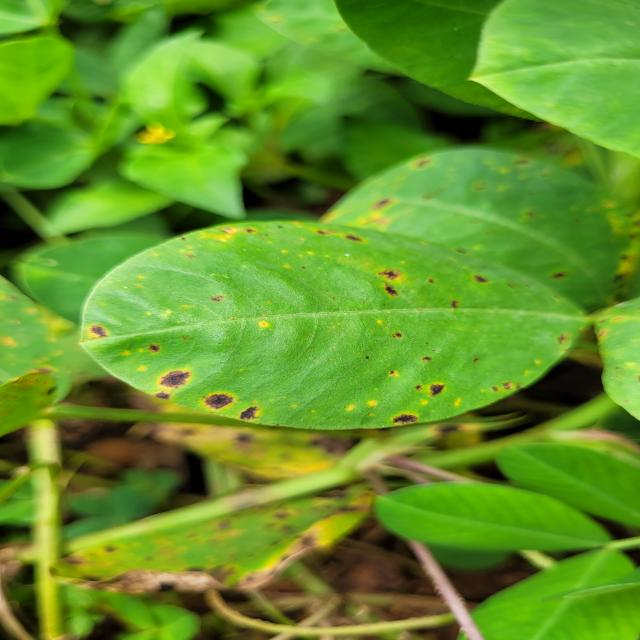Ground nut_healthy: (362, 476, 621, 556)
Ground nut_tikka leaf spot: (71, 218, 587, 430), (317, 144, 639, 310)
